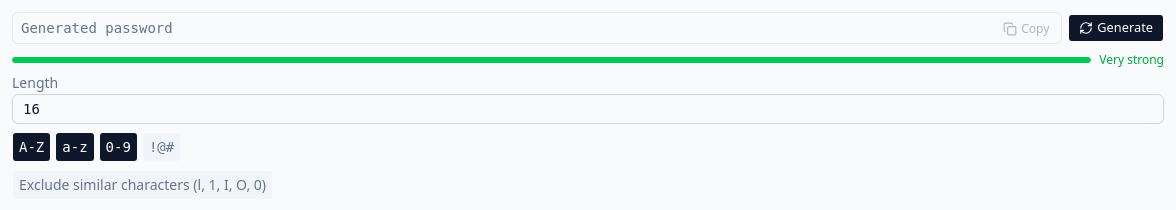
Test: PasswordGeneratorWidget › shows a strength label that reacts to the current settings
The width and height of the screenshot is (1176, 210).
Replace the text in the number field labelled "Length" with "4" at (588, 109), box 12,94 -> 1164,124
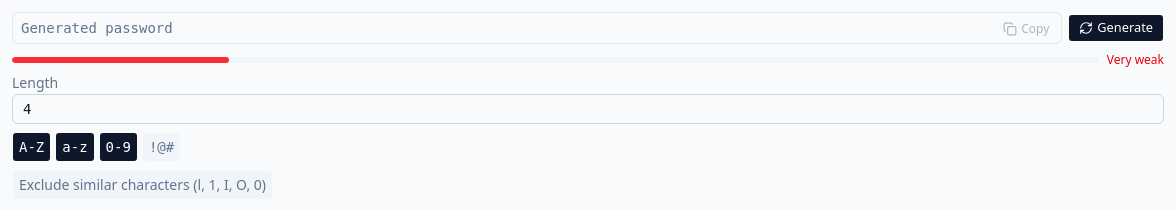
Now the text "Very weak" is shown, box 1107,52 -> 1164,68
